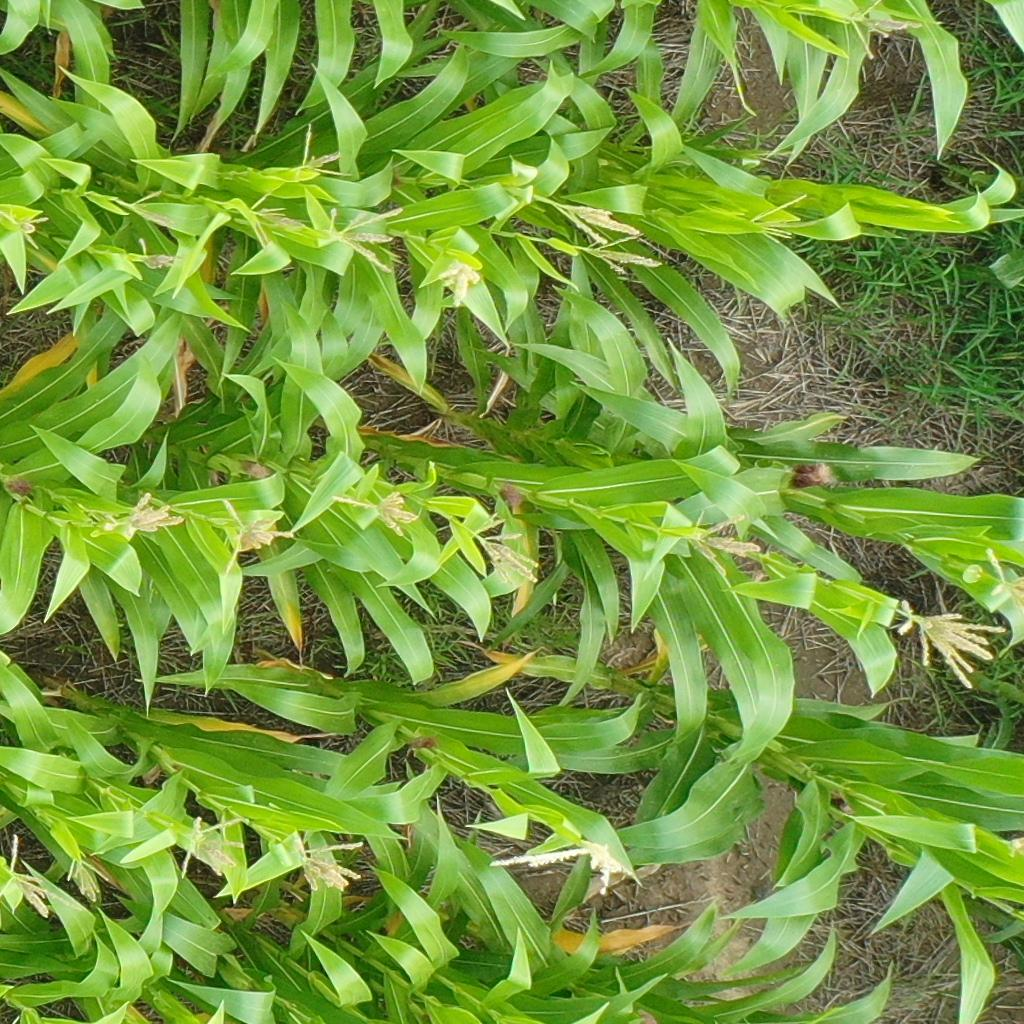Tassel: (895, 602, 1005, 691), (487, 839, 646, 900), (1, 833, 84, 918), (219, 495, 297, 576), (324, 203, 403, 276), (470, 509, 542, 589), (687, 508, 763, 582), (177, 811, 250, 885), (291, 837, 368, 896), (846, 1, 920, 58), (551, 199, 642, 244), (102, 492, 184, 539), (334, 489, 414, 536), (748, 191, 808, 250), (584, 231, 662, 276), (248, 193, 309, 246), (297, 123, 350, 177), (981, 549, 1024, 612), (119, 189, 176, 228), (1, 204, 50, 247), (440, 259, 482, 305), (136, 236, 184, 274), (66, 854, 107, 896), (1000, 836, 1024, 860)
